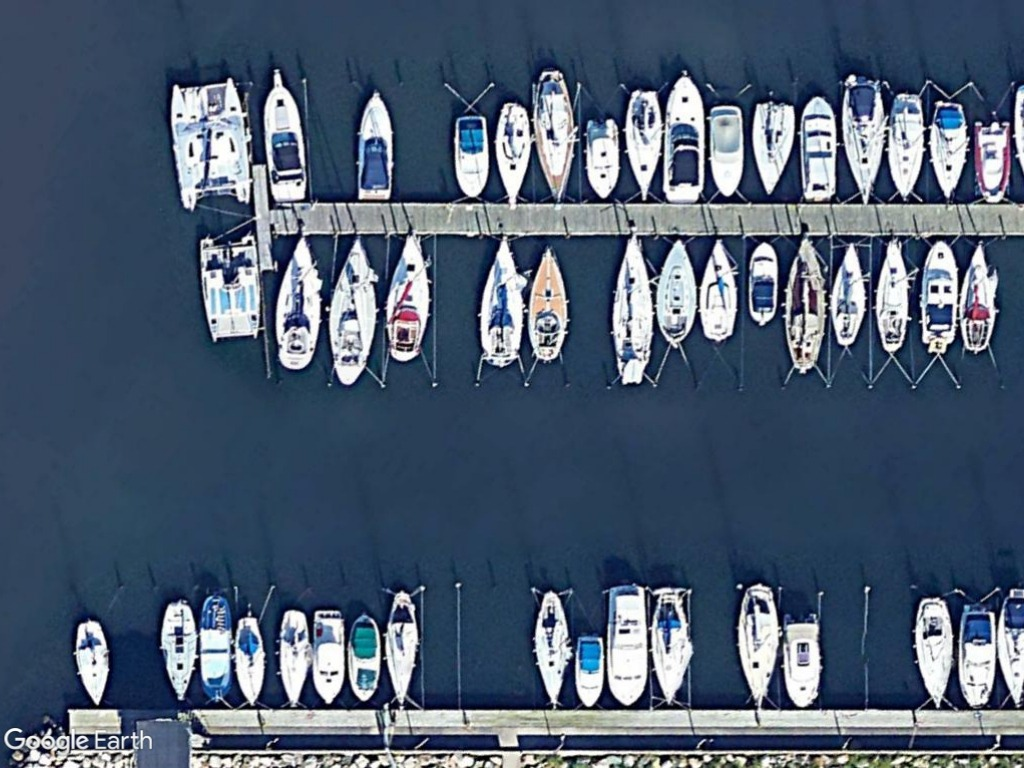boat: (320, 232, 382, 389), (603, 230, 656, 392), (472, 228, 529, 370), (253, 65, 311, 204), (778, 234, 832, 376), (273, 232, 327, 373), (835, 68, 888, 204), (384, 228, 436, 366), (728, 580, 782, 710), (658, 68, 708, 207), (647, 581, 699, 710), (519, 245, 574, 365), (531, 64, 578, 203), (908, 592, 959, 714), (650, 232, 702, 350), (603, 582, 649, 710), (793, 89, 843, 203), (528, 585, 573, 710), (620, 81, 665, 205), (352, 86, 400, 202), (746, 94, 799, 197), (884, 88, 931, 204), (488, 96, 537, 207), (695, 231, 743, 344), (157, 597, 204, 710), (955, 237, 1000, 355), (872, 233, 915, 354), (925, 96, 973, 203), (825, 238, 871, 348), (916, 238, 961, 350), (196, 589, 238, 709), (954, 604, 1000, 713), (381, 585, 421, 710), (702, 99, 749, 202), (779, 615, 826, 710), (308, 605, 352, 706), (273, 604, 315, 707), (447, 109, 493, 199), (971, 110, 1015, 204), (230, 610, 271, 710), (345, 611, 384, 710), (580, 110, 621, 203), (73, 616, 114, 707), (743, 236, 780, 328), (567, 631, 608, 709)
